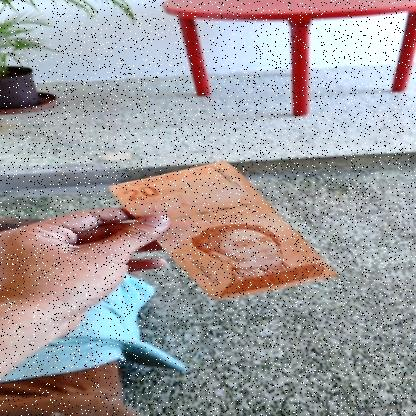twenty-front-vef: (108, 160, 338, 302)
